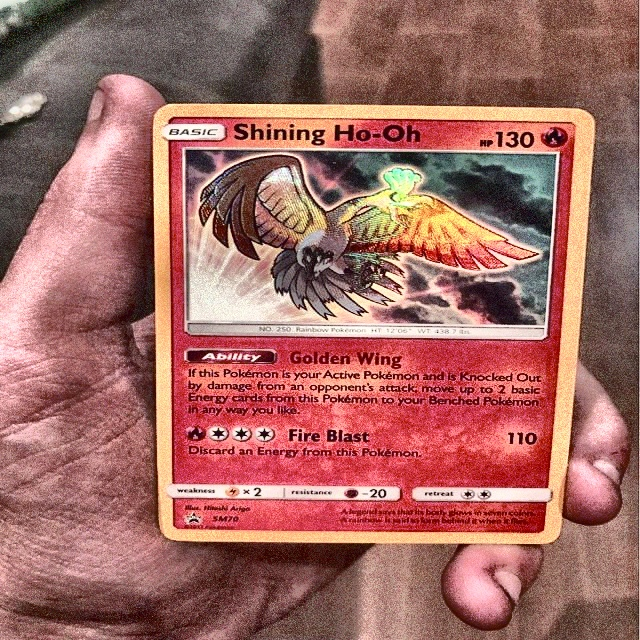card: (152, 102, 598, 545)
